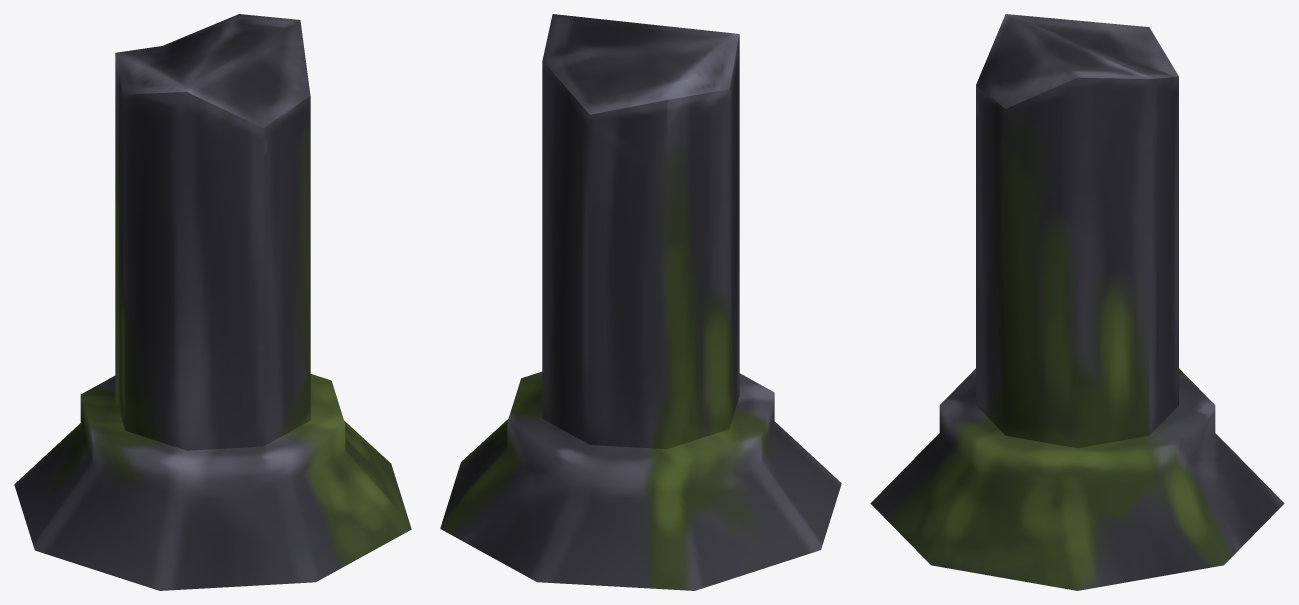
File: Pillar5.fbx
3 views of the same model, side by side, from view 1: azimuth 30°, elevation 25°; view 2: azimuth 150°, elevation 25°; view 3: azimuth 270°, elevation 25° (orthographic).
Visible parts, largest first — view 1: Pillar; view 2: Pillar; view 3: Pillar.
Boxes of the visible parts, x1,y1,x2,y2 form: Pillar: [14, 14, 411, 590]; Pillar: [440, 14, 841, 590]; Pillar: [870, 14, 1284, 590].
Bounding box in the file's own units: 53.52 × 66.83 × 53.52.
